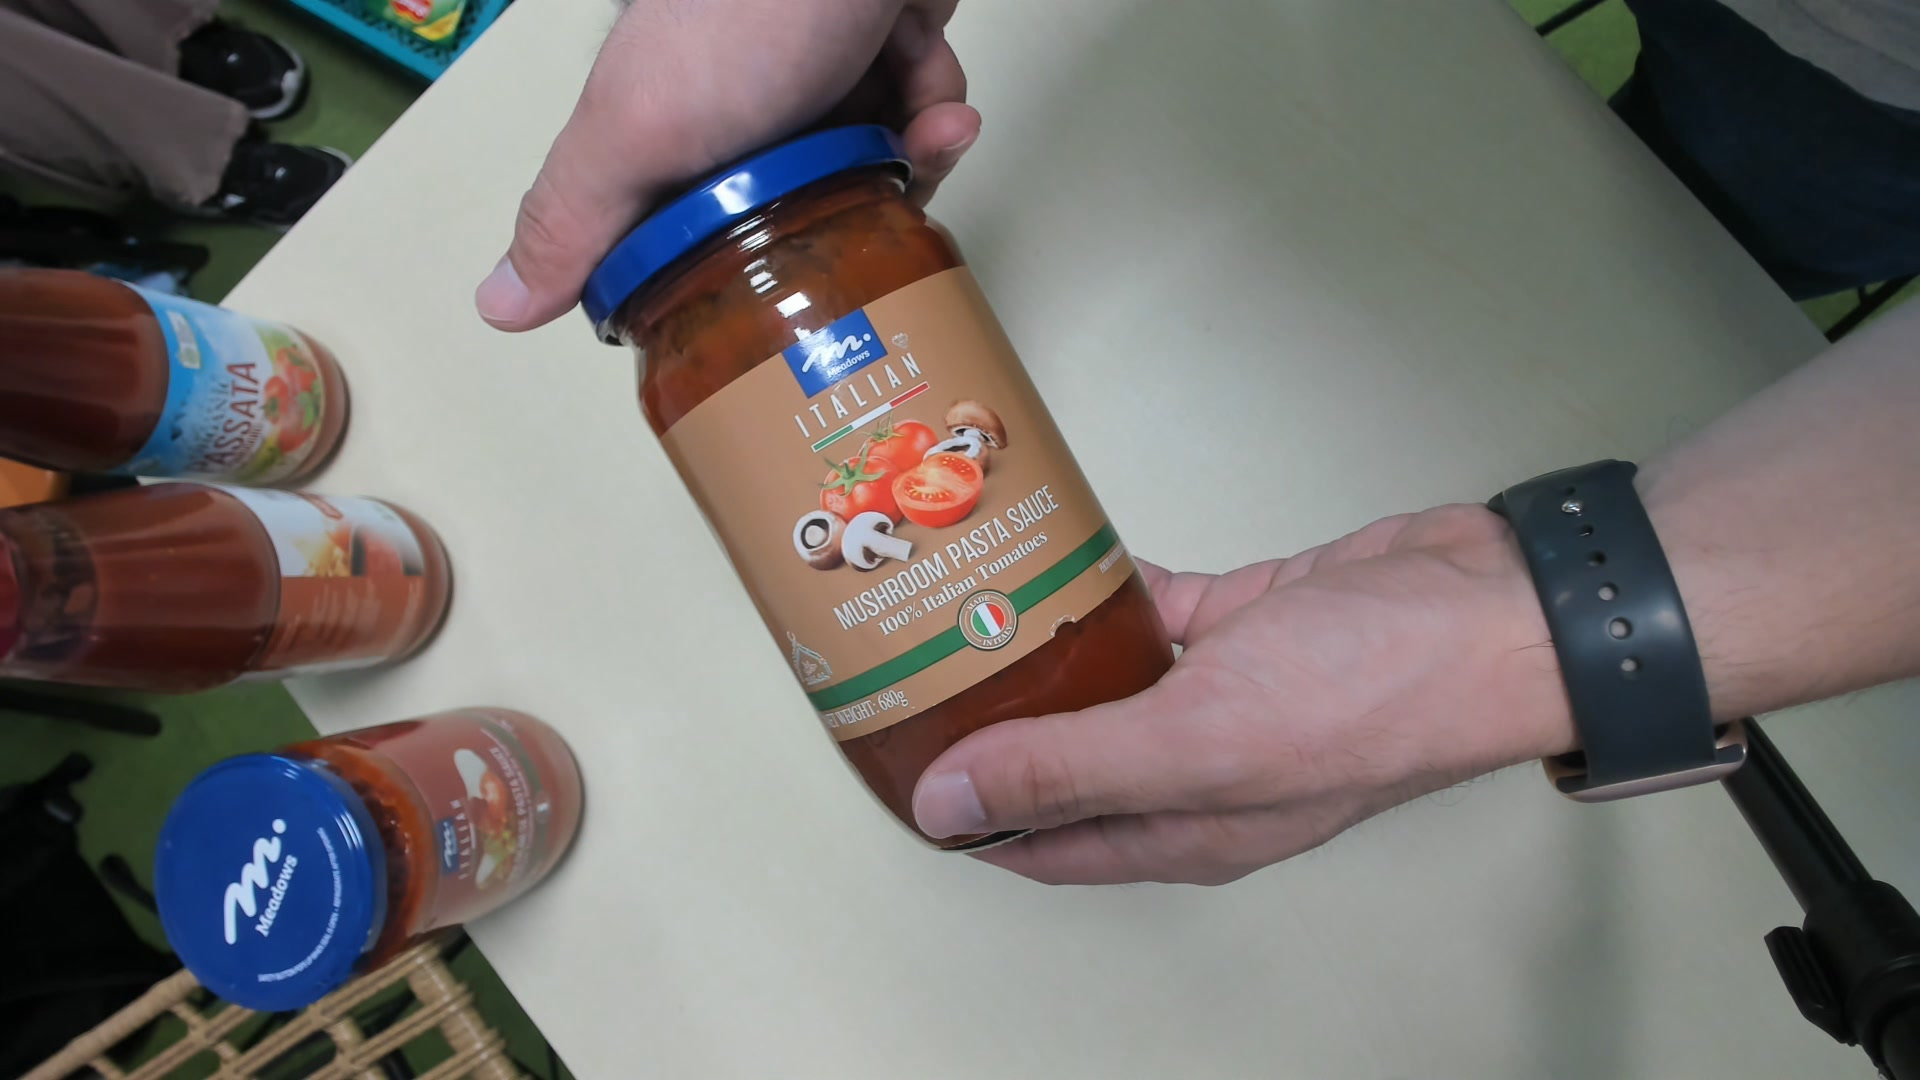PastaSauce_600-699g_Halal_NonHealthy: (585, 131, 1188, 851)
